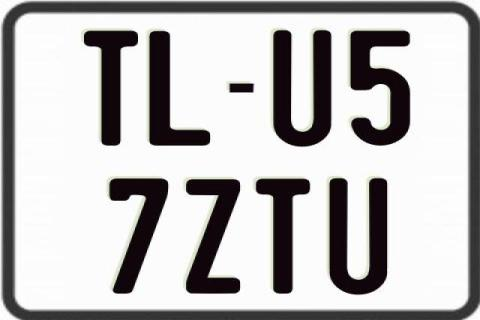0: (349, 29, 412, 150), (108, 176, 171, 293)
L: (149, 30, 214, 148)
T: (84, 29, 144, 150), (254, 178, 314, 298)
U: (328, 179, 388, 295), (273, 31, 331, 150)
Z: (183, 179, 242, 297)
